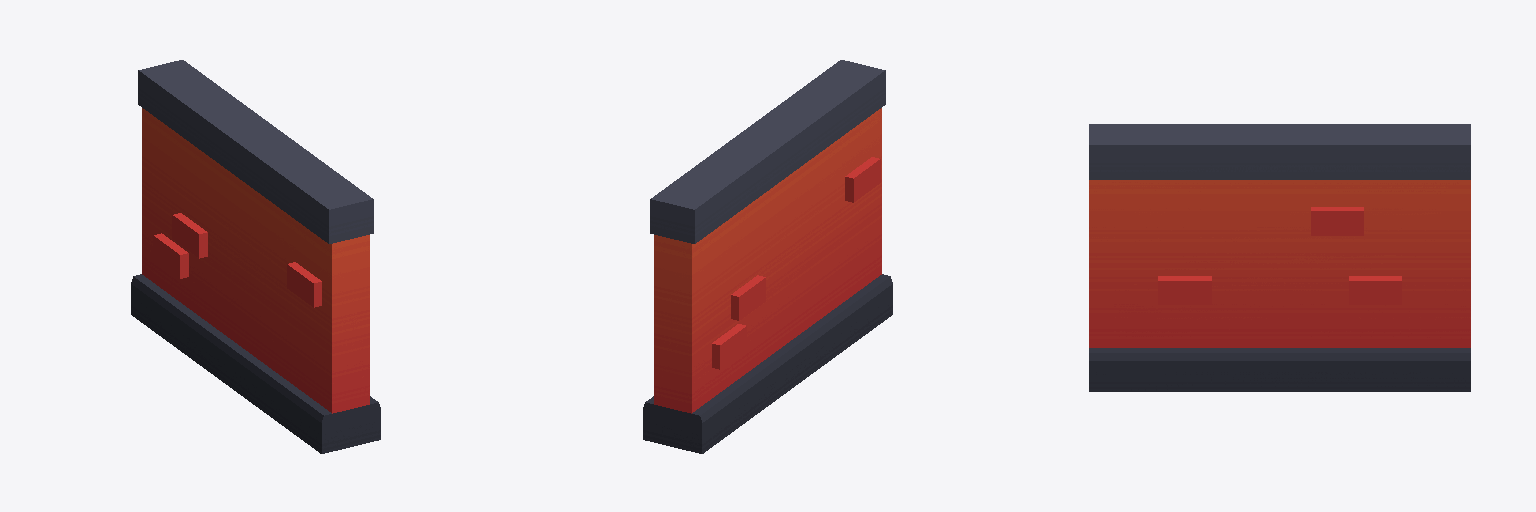
3 renders of one model, left to right at view 1: azimuth 30°, elevation 25°; view 2: azimuth 150°, elevation 25°; view 3: azimuth 270°, elevation 25°, orthographic.
Visible parts, largest first — view 1: brick-wall.015; view 2: brick-wall.015; view 3: brick-wall.015.
Part boxes in pixels (x1,y1,x2,y2): brick-wall.015: (131,60,380,453); brick-wall.015: (643,60,892,453); brick-wall.015: (1089,124,1470,391).
Bounding box in the file's own units: 0.441 × 1.72 × 2.45.
Materials: 1 (1 with a texture image).